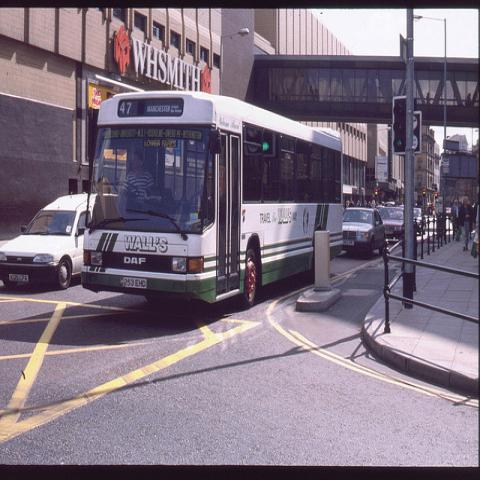bus: (81, 90, 345, 309)
car: (0, 188, 96, 290), (344, 207, 390, 261), (381, 206, 405, 241), (412, 208, 426, 236), (446, 207, 452, 220), (384, 202, 398, 207)
